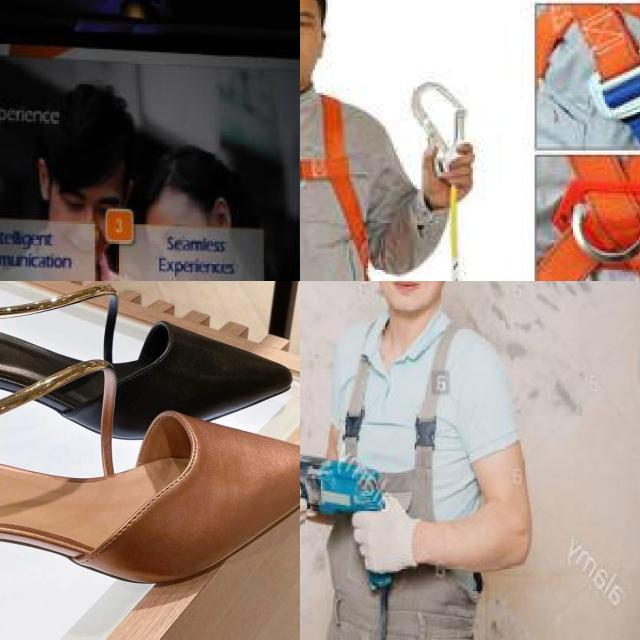Harness: (300, 88, 383, 281)
Sandals: (0, 347, 300, 639), (0, 281, 298, 449)
face_nomask: (376, 281, 440, 298)
hand_glove: (347, 492, 429, 578), (300, 470, 315, 534)
person: (300, 281, 528, 640)
